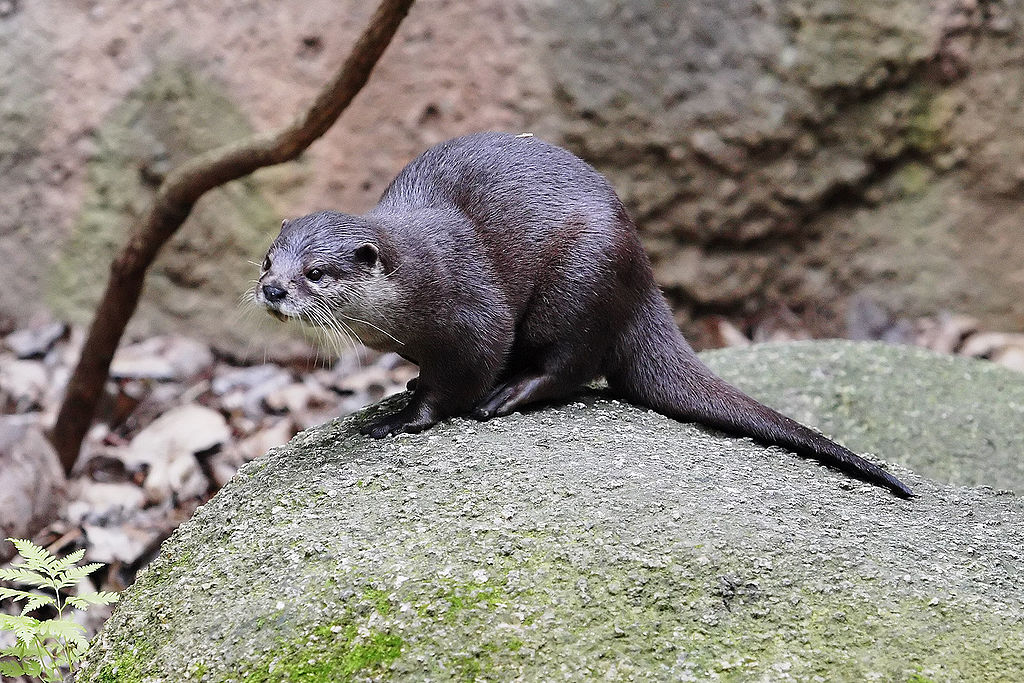otter: (237, 116, 923, 507)
